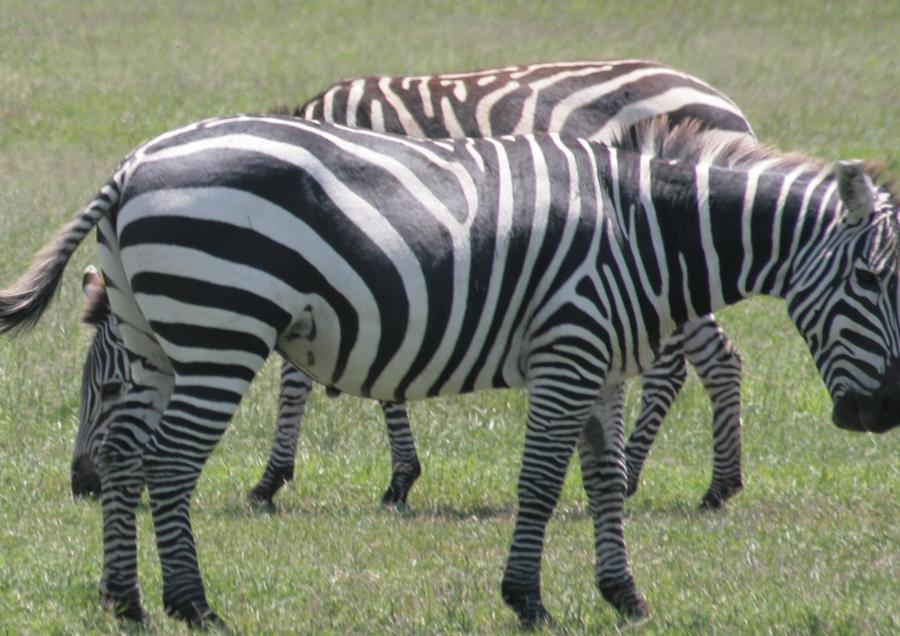zebra_plains: (121, 103, 645, 404)
